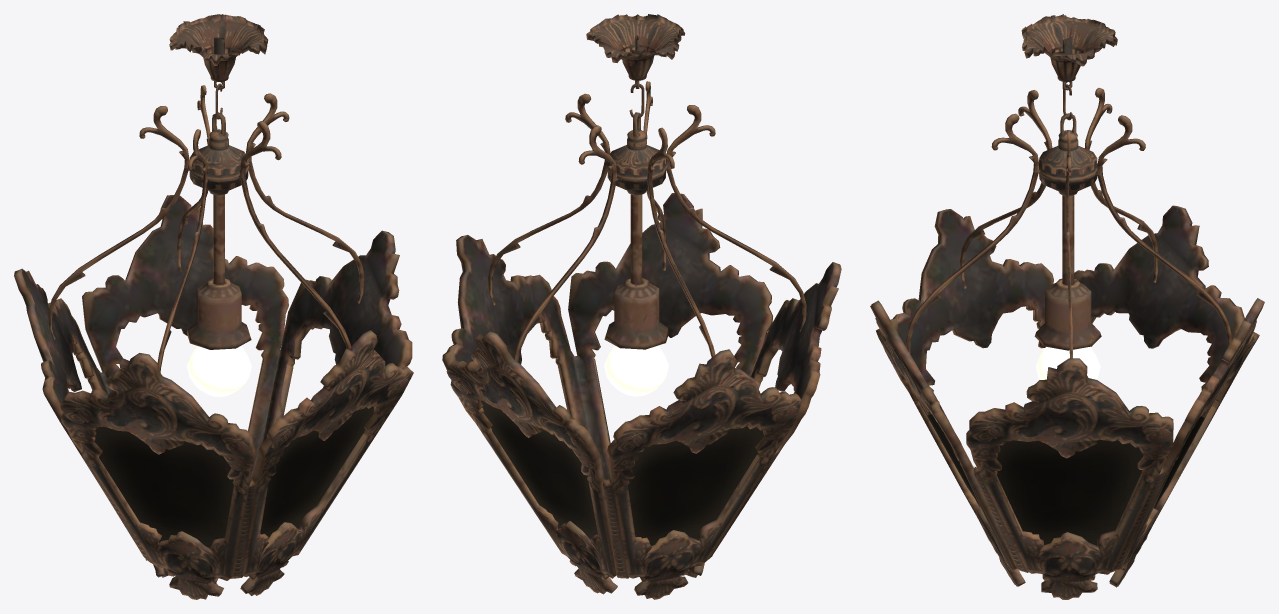
File: lantern.glb
3 renders of one model, left to right at view 1: azimuth 30°, elevation 25°; view 2: azimuth 150°, elevation 25°; view 3: azimuth 270°, elevation 25°, orthographic.
Visible parts, largest first — view 1: lantern_chandelier_01; view 2: lantern_chandelier_01; view 3: lantern_chandelier_01.
Boxes of the visible parts, x1,y1,x2,y2 form: lantern_chandelier_01: (14, 14, 413, 599); lantern_chandelier_01: (442, 14, 841, 599); lantern_chandelier_01: (870, 14, 1264, 599).
Bounding box in the file's own units: 0.5792 × 0.8776 × 0.5746.
3 materials, 2 textured.
